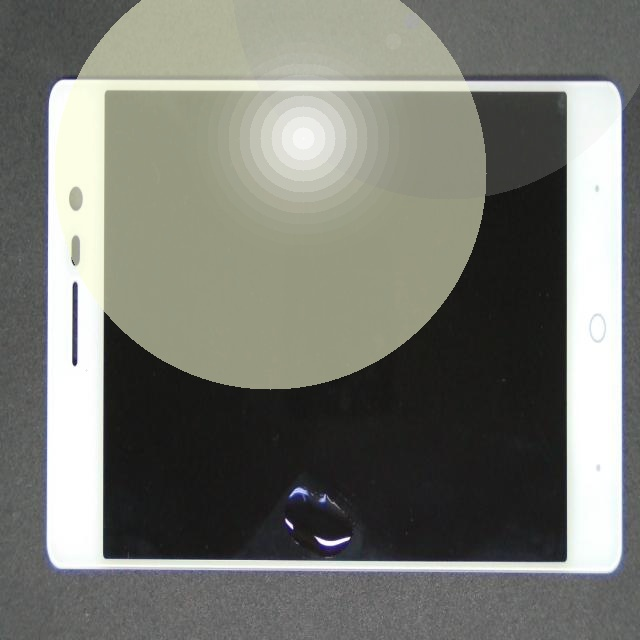oil: (189, 292, 535, 640)
